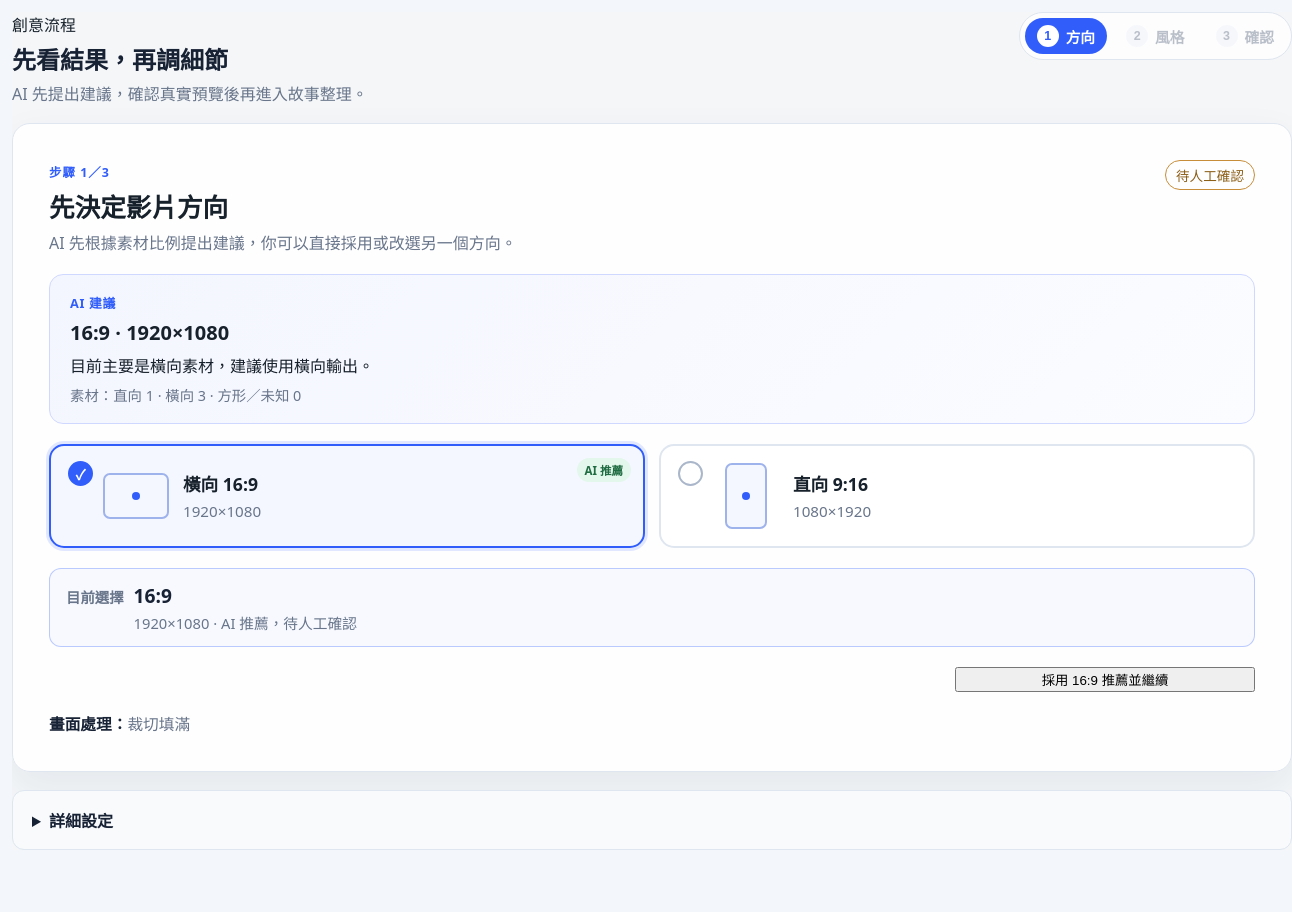
it: CreativeFlowWorkspace › saves the selected recommendation with the exact API contract and enters Visual Style only after refresh
Click the button "採用 16:9 推薦並繼續" at (1105, 680), box [955,667,1255,692]
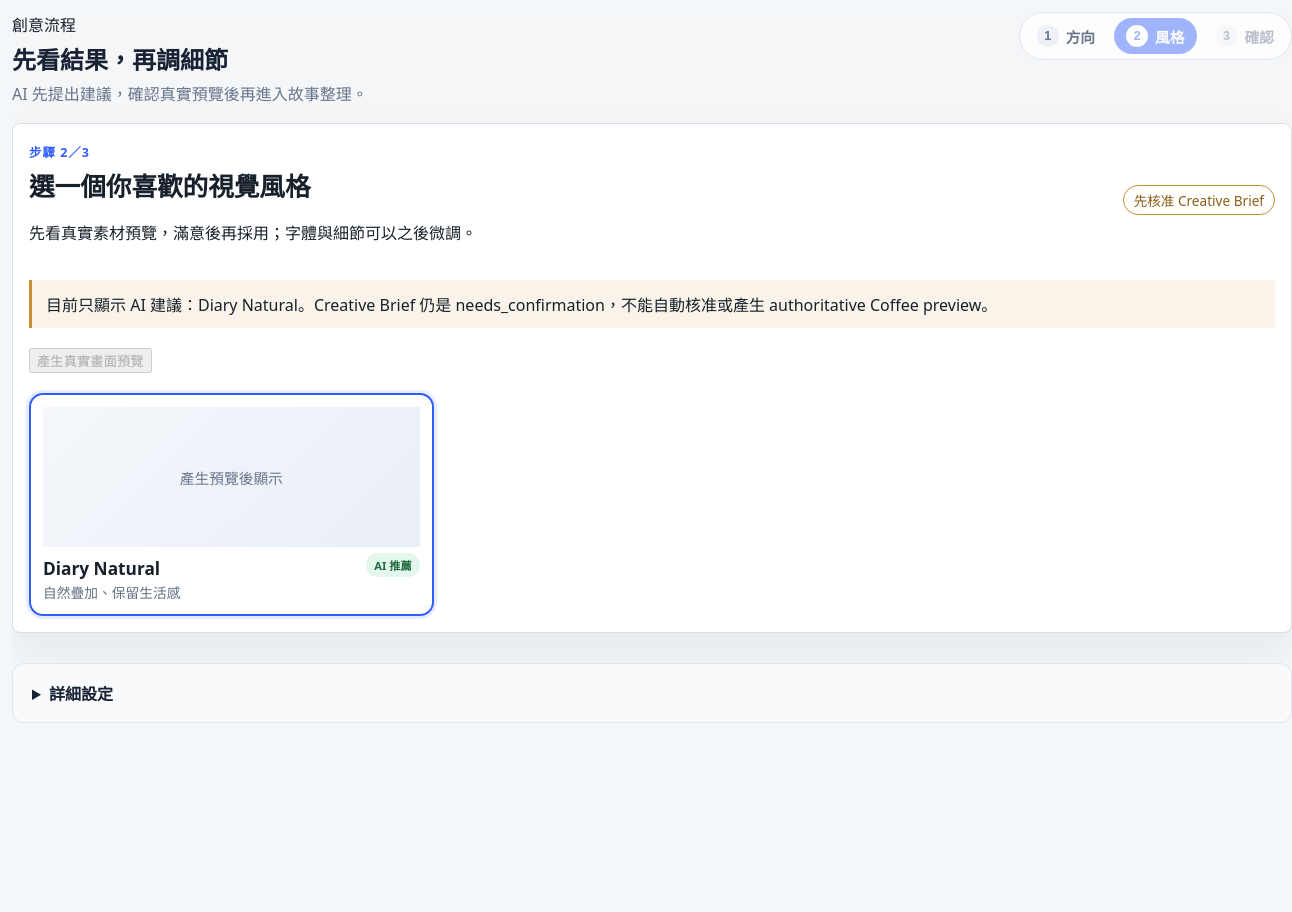
Expected: the heading "選一個你喜歡的視覺風格" is shown, [29,169,310,204]
